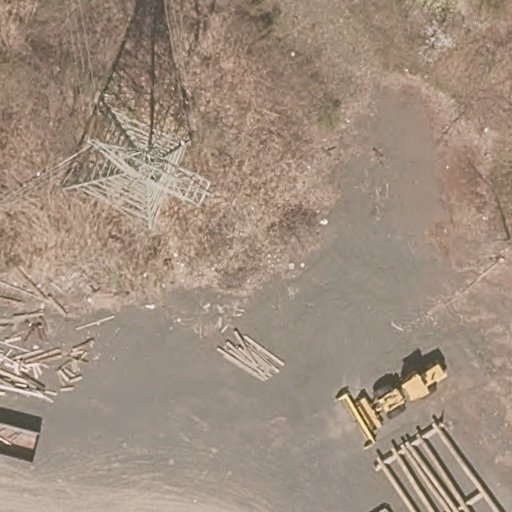TT: (55, 91, 211, 238)
